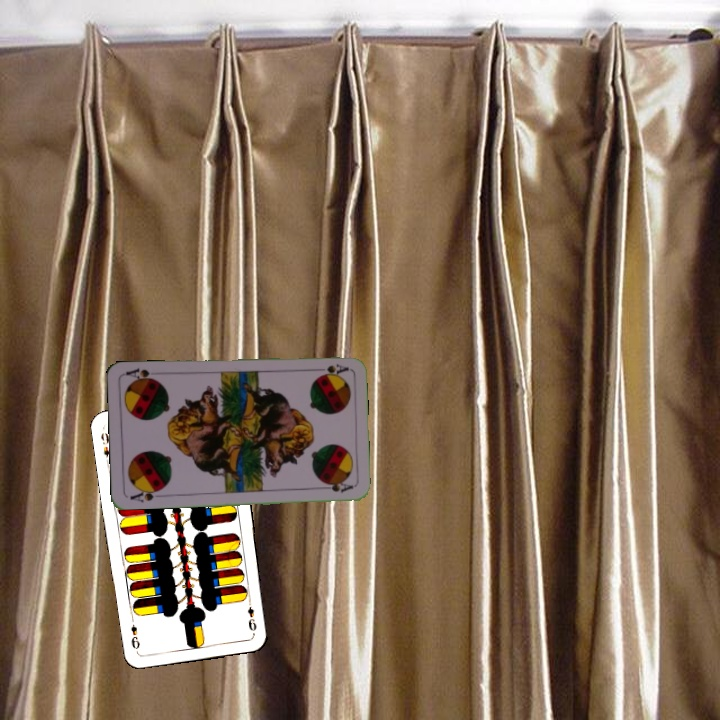E9: (243, 596, 259, 633), (96, 429, 112, 466)
SA: (126, 484, 166, 505), (310, 360, 351, 378)
